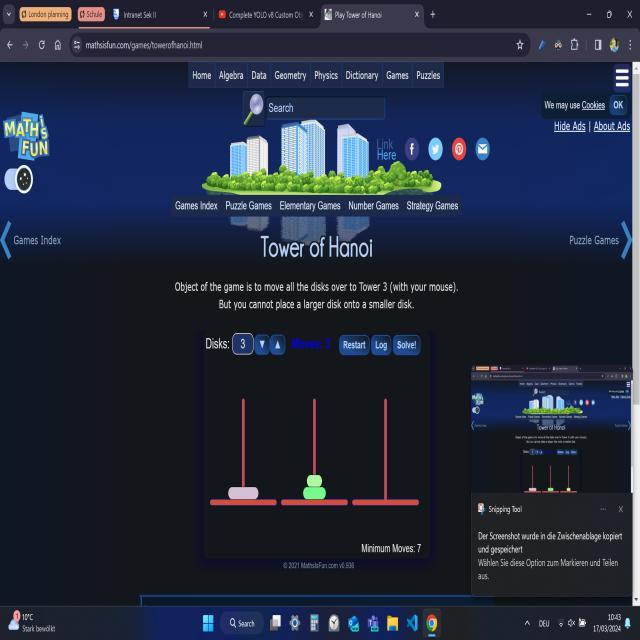disk1: (307, 475, 322, 487)
disk2: (303, 487, 326, 499)
disk3: (228, 487, 258, 499)
